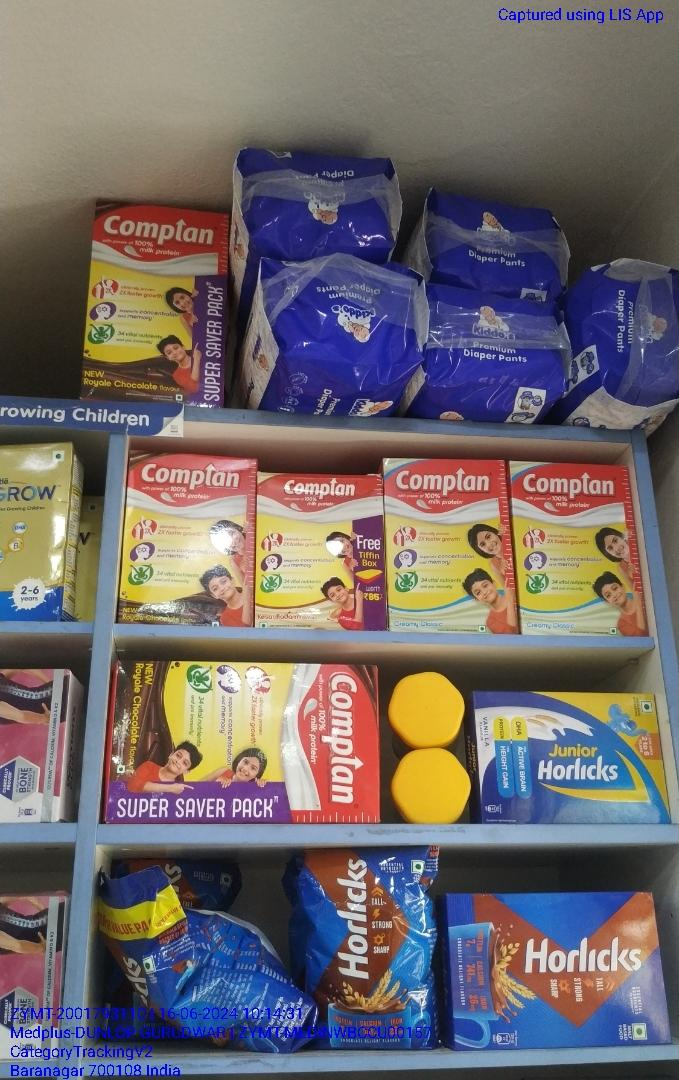COMPLAN_CHOCOLATE_1_KG_PACK: (86, 197, 224, 406)
COMPLAN_CREAMY_CLASSIC_500_G_PACK: (386, 459, 514, 633), (517, 460, 641, 634)
